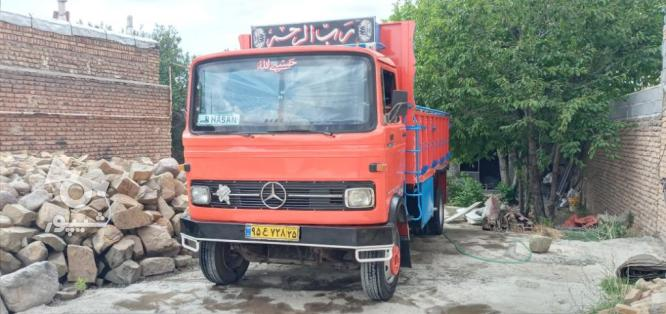car: (243, 223, 303, 241)
